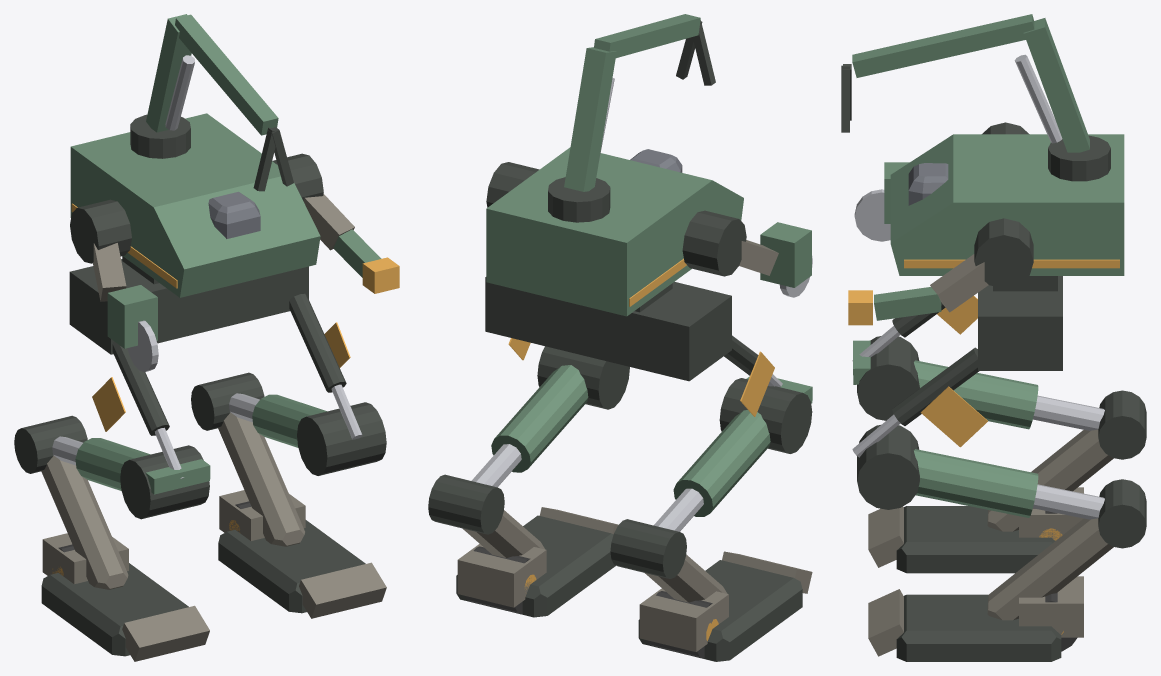
The model's file is logger.glb.
3 views of the same model, side by side, from view 1: azimuth 30°, elevation 25°; view 2: azimuth 150°, elevation 25°; view 3: azimuth 270°, elevation 25° (orthographic). The views are drawn at different scales.
Visible parts, largest first — view 1: hull, hips, foot1_sole, foot-1_sole, meta1, meta-1, knee1, knee-1, boom2, foot-1_toe, foot1_toe, drum-1 (+27 smaller); view 2: hull, hips, foot-1_sole, foot1_sole, shin1, shin-1, boom1, foot1_housing, foot-1_housing, knee-1, hock-1, hock1 (+19 smaller); view 3: hull, foot1_sole, foot-1_sole, hips, shin1, meta1, boom2, knee1, shin-1, boom1, knee-1, drum1 (+27 smaller).
Part boxes in pixels (<box>): hull: <box>70,113,320,297</box>; hips: <box>69,259,308,354</box>; foot1_sole: <box>218,520,365,613</box>; foot-1_sole: <box>41,563,188,656</box>; meta1: <box>218,412,304,546</box>; meta-1: <box>41,456,128,589</box>; knee1: <box>297,402,386,475</box>; knee-1: <box>120,445,209,519</box>; boom2: <box>175,14,278,135</box>; foot-1_toe: <box>122,605,209,661</box>; foot1_toe: <box>299,562,386,618</box>; drum-1: <box>70,199,131,263</box>; hull: <box>486,147,743,316</box>; hips: <box>485,277,731,381</box>; foot-1_sole: <box>638,560,802,661</box>; foot1_sole: <box>456,515,615,617</box>; shin1: <box>491,365,588,472</box>; shin-1: <box>673,410,770,516</box>; boom1: <box>564,47,616,191</box>; foot1_housing: <box>457,544,546,607</box>; foot-1_housing: <box>639,588,728,651</box>; knee-1: <box>719,378,812,453</box>; hock-1: <box>610,519,686,578</box>; hock1: <box>428,474,504,534</box>; hull: <box>890,134,1124,275</box>; foot1_sole: <box>896,594,1061,661</box>; foot-1_sole: <box>896,506,1054,573</box>; hips: <box>978,276,1062,370</box>; shin1: <box>914,449,1038,517</box>; meta1: <box>987,518,1113,620</box>; boom2: <box>852,14,1034,77</box>; knee1: <box>857,425,919,509</box>; shin-1: <box>914,360,1038,429</box>; boom1: <box>1023,18,1089,152</box>; knee-1: <box>857,336,919,420</box>; drum1: <box>974,218,1033,288</box>.
Size of the model in its own units: 12.6 by 25.55 by 12.21.
